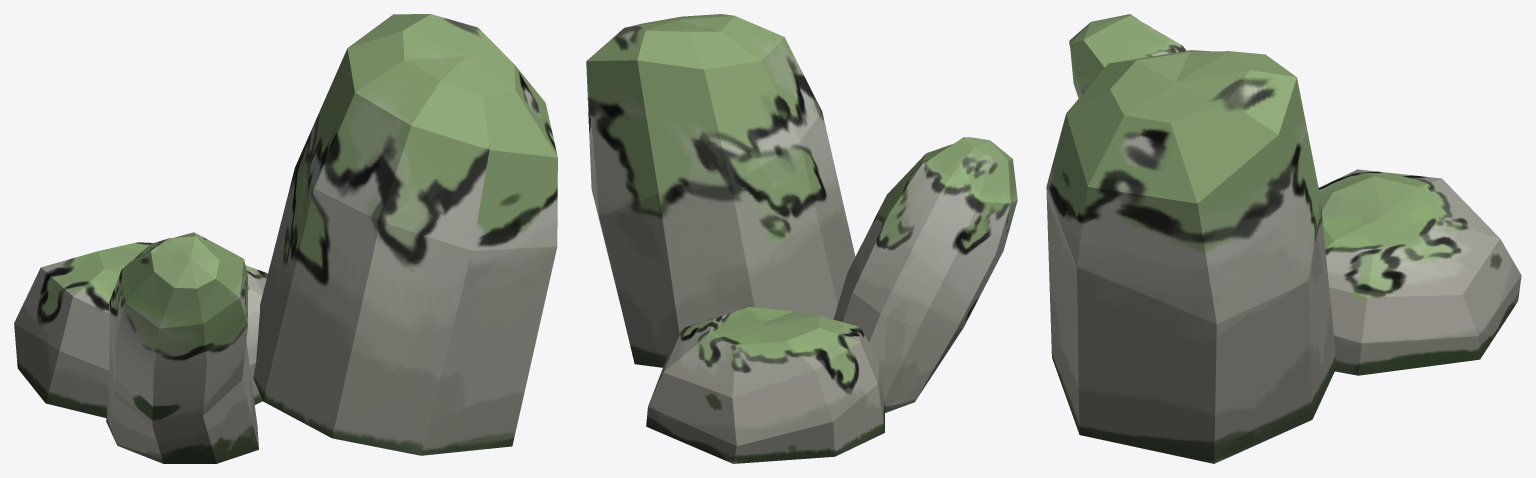
Rendered from Rocks_01.fbx.
3 renders of one model, left to right at view 1: azimuth 30°, elevation 25°; view 2: azimuth 150°, elevation 25°; view 3: azimuth 270°, elevation 25°, orthographic. The views are drawn at different scales.
Visible parts, largest first — view 1: Rock_02, Rock_03, Rock_01; view 2: Rock_02, Rock_01, Rock_03; view 3: Rock_02, Rock_01, Rock_03.
Part boxes in pixels (x1,y1,x2,y2): Rock_02: (253,14,557,455); Rock_03: (106,232,258,463); Rock_01: (14,242,267,418); Rock_02: (586,14,855,367); Rock_01: (646,307,884,463); Rock_03: (833,137,1017,412); Rock_02: (1046,50,1336,463); Rock_01: (1318,169,1521,375); Rock_03: (1069,14,1186,98).
Size of the model in its own units: 4.52 by 3.59 by 4.12.
1 material, 1 textured.
